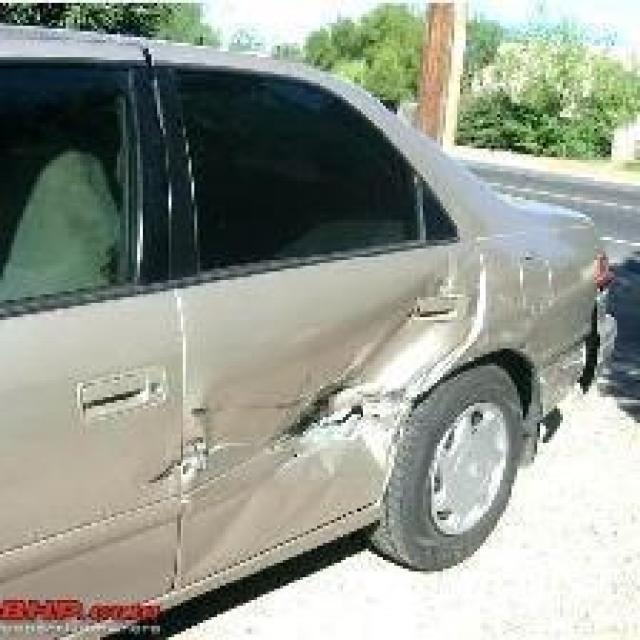damaged: (148, 257, 618, 494)
